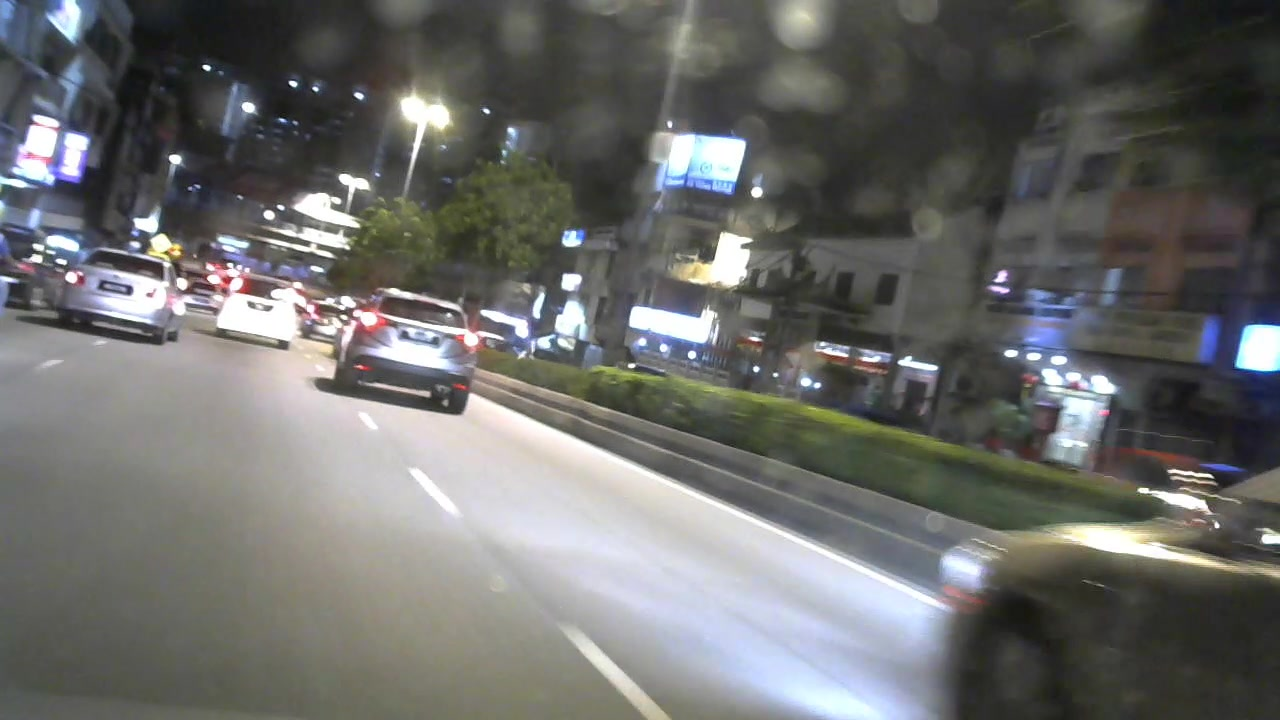Car: (918, 452, 1280, 713), (339, 284, 491, 414), (60, 240, 189, 349), (213, 270, 311, 351)
